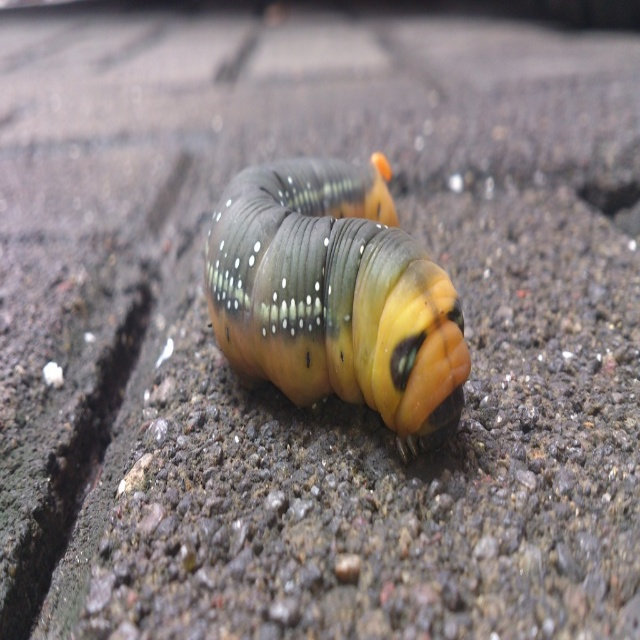Caterpillar: (203, 151, 472, 466)
